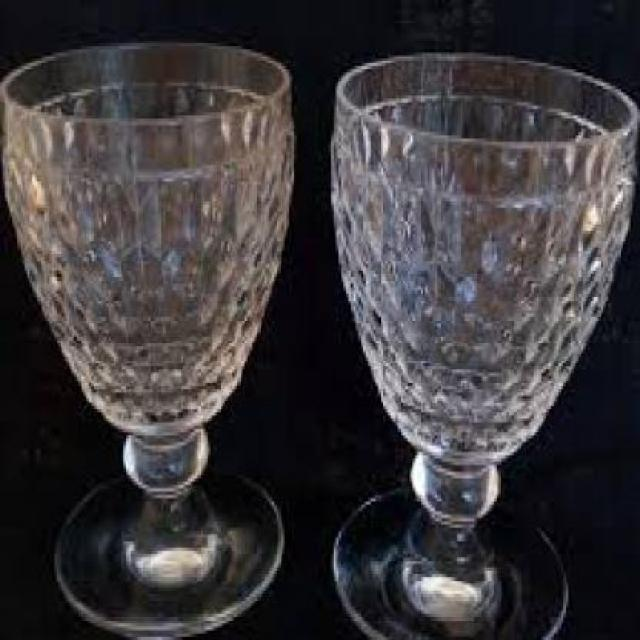kaca: (324, 49, 638, 637), (0, 35, 294, 637)
